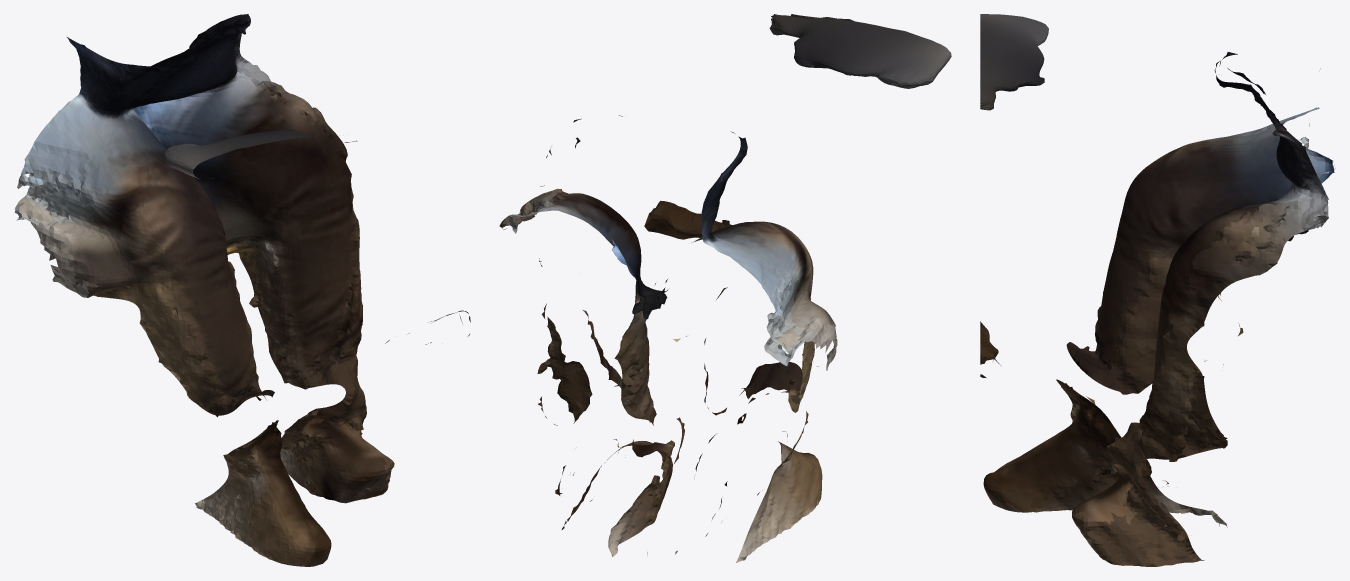
The picture shows the model from 3 angles, left to right: view 1: azimuth 30°, elevation 25°; view 2: azimuth 150°, elevation 25°; view 3: azimuth 270°, elevation 25°; orthographic projection. The views are drawn at different scales.
Size of the model in its own units: 0.4745 by 0.6896 by 0.5126.
Materials: 1 (1 with a texture image).
